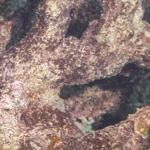dead: (1, 2, 149, 149)
